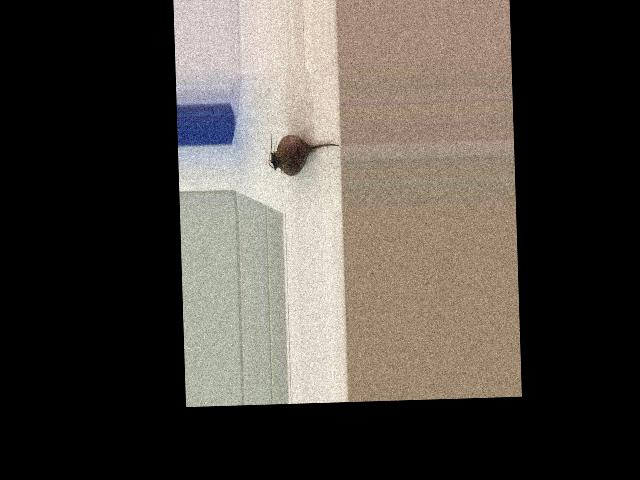beet: (267, 129, 340, 176)
